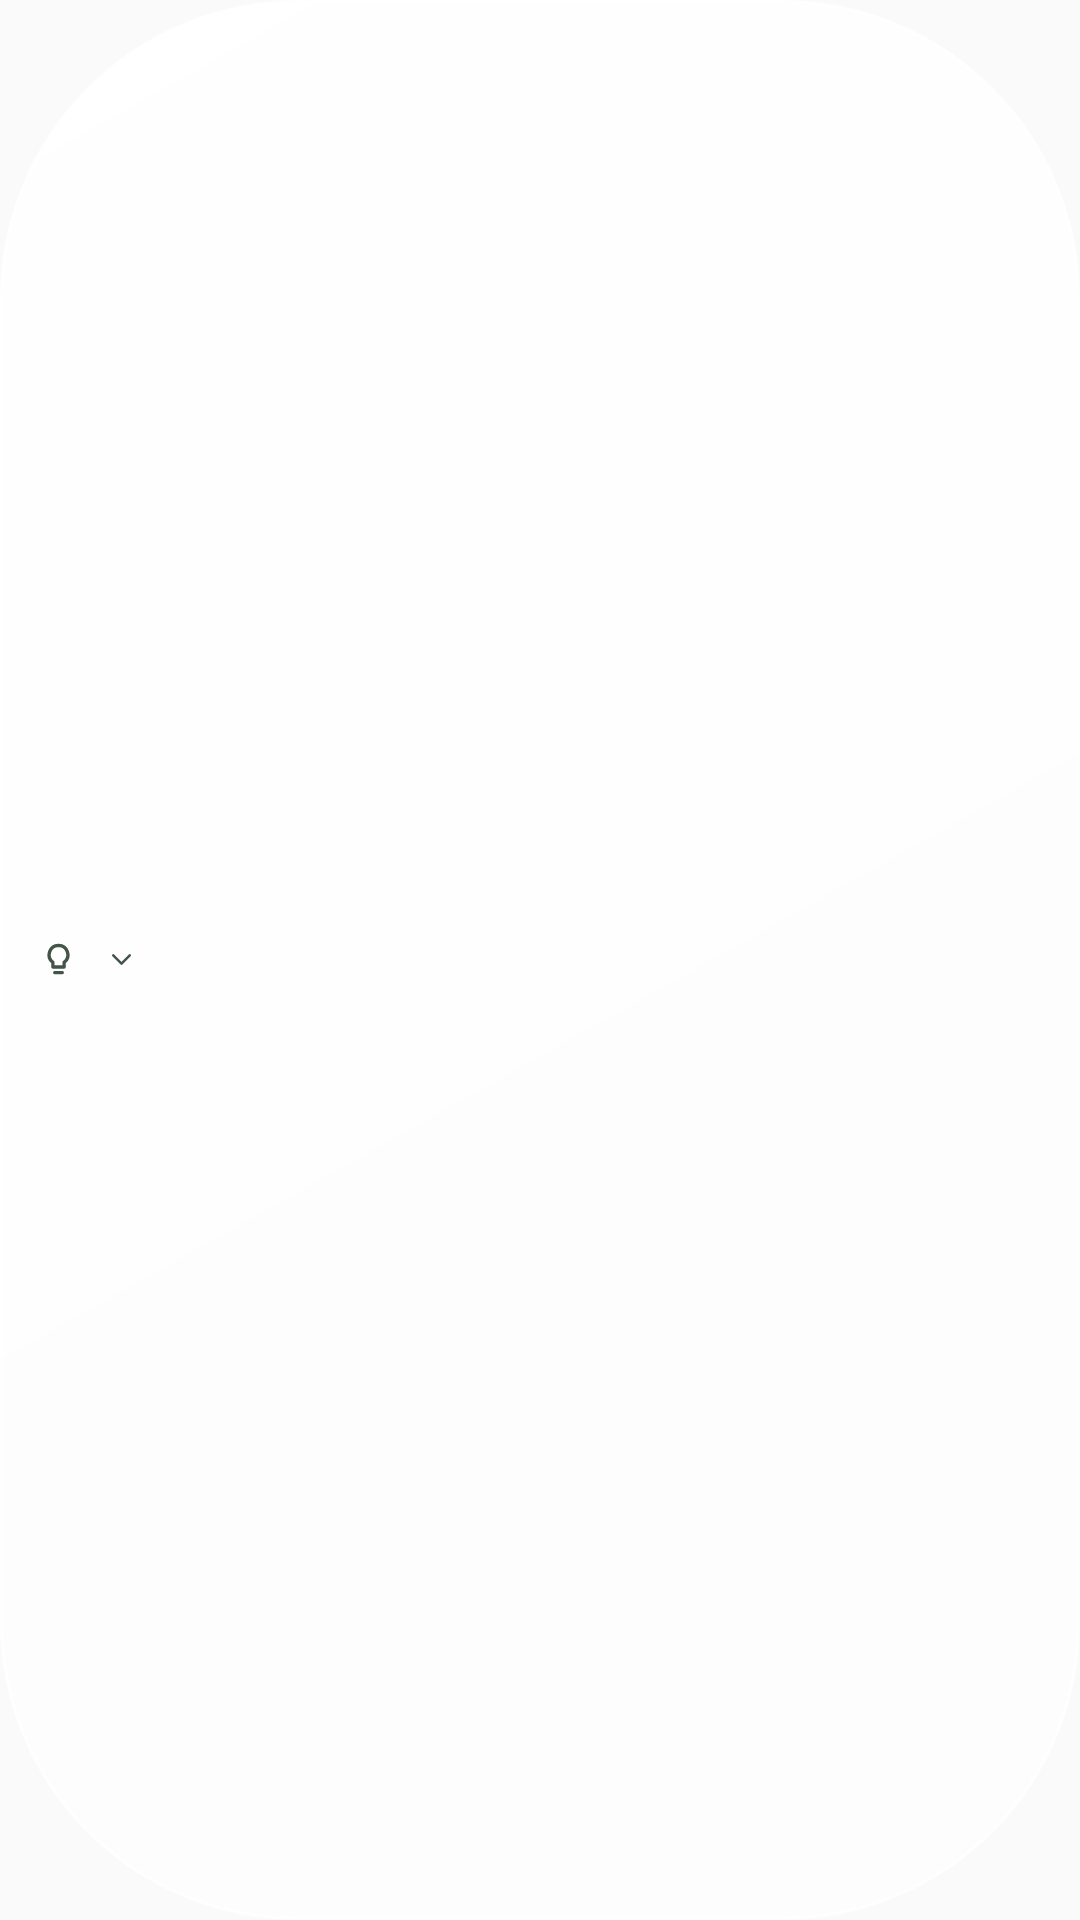

Icon bounding boxes for this 1080w x 1920h phone screenshot, format box=[x1, y1, x2, y2]:
think: box=[47, 943, 70, 975]
